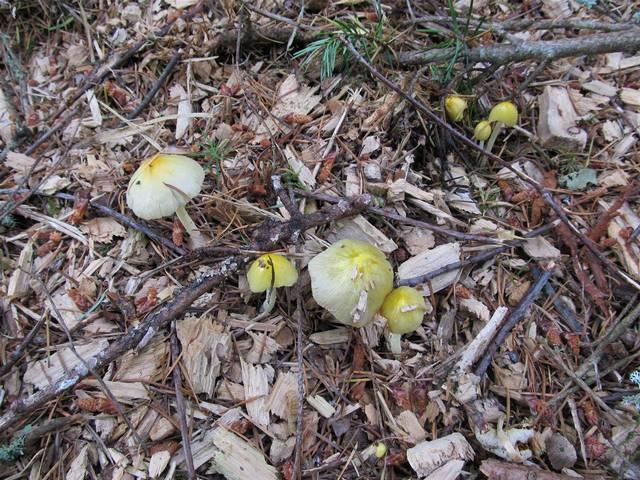Edible Mushroom: (307, 237, 394, 328), (125, 152, 205, 221), (245, 252, 298, 314)
